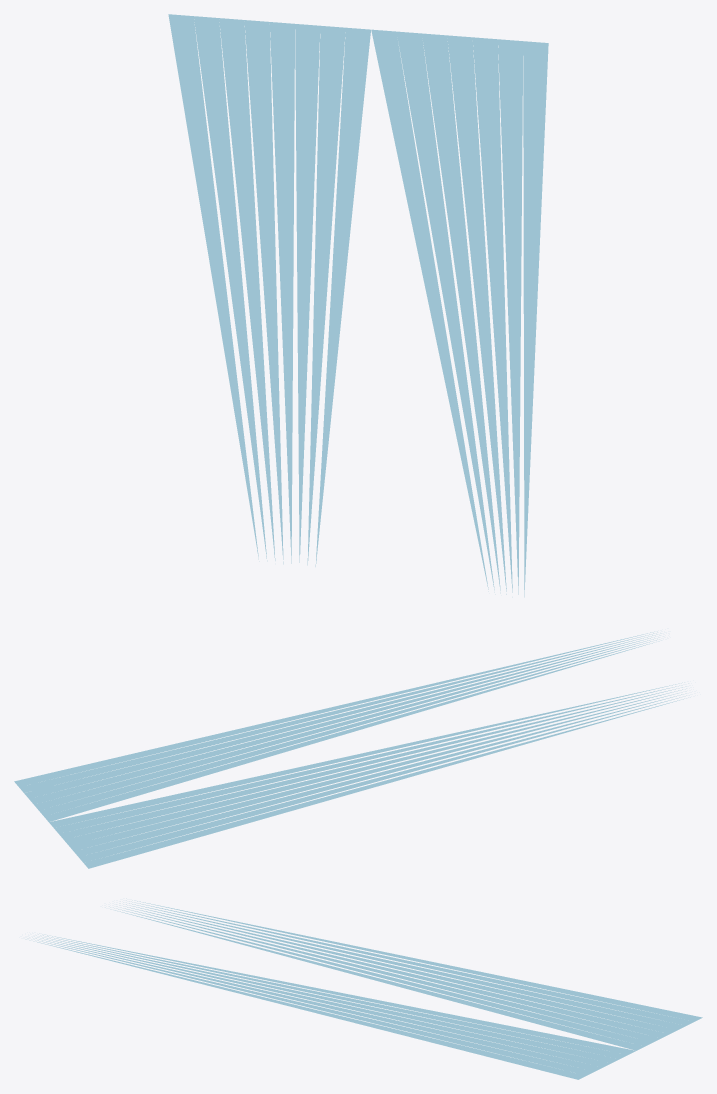
The model's file is terrain-context-C-x0-z0.glb.
3 renders of one model, top to bottom at view 1: azimuth 30°, elevation 25°; view 2: azimuth 150°, elevation 25°; view 3: azimuth 270°, elevation 25°, orthographic. The views are drawn at different scales.
Visible parts, largest first — view 1: C-x0-z0; view 2: C-x0-z0; view 3: C-x0-z0.
Boxes of the visible parts, box(x1,y1,x2,y2) form: C-x0-z0: box(168, 14, 548, 597); C-x0-z0: box(14, 631, 690, 868); C-x0-z0: box(25, 898, 702, 1079).
Size of the model in its own units: 168 by 3.6e-05 by 267.
